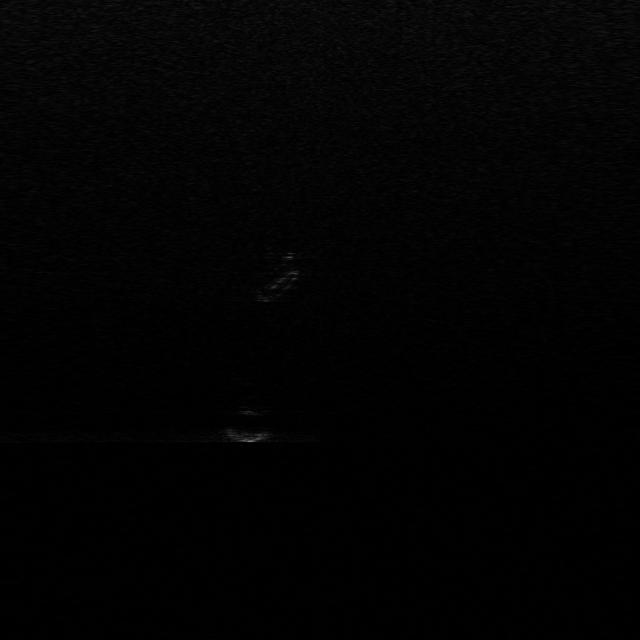ball: (218, 406, 272, 441)
tyre: (260, 263, 298, 302)
